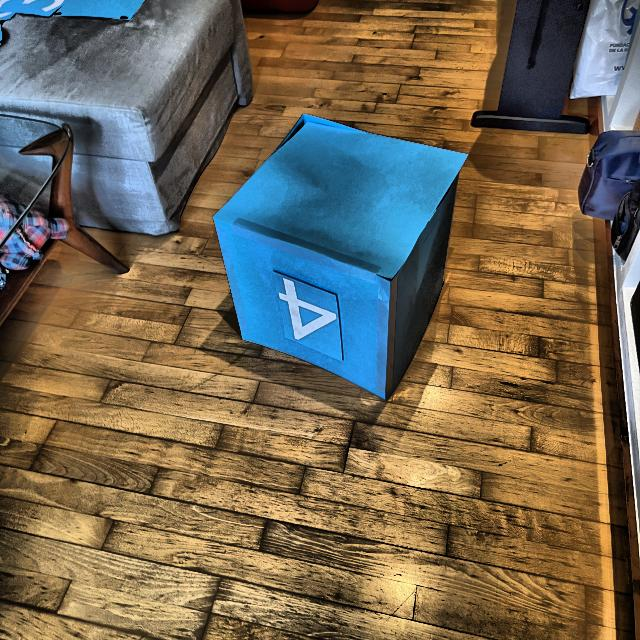blue box: (211, 112, 464, 404)
four: (274, 272, 340, 344)
